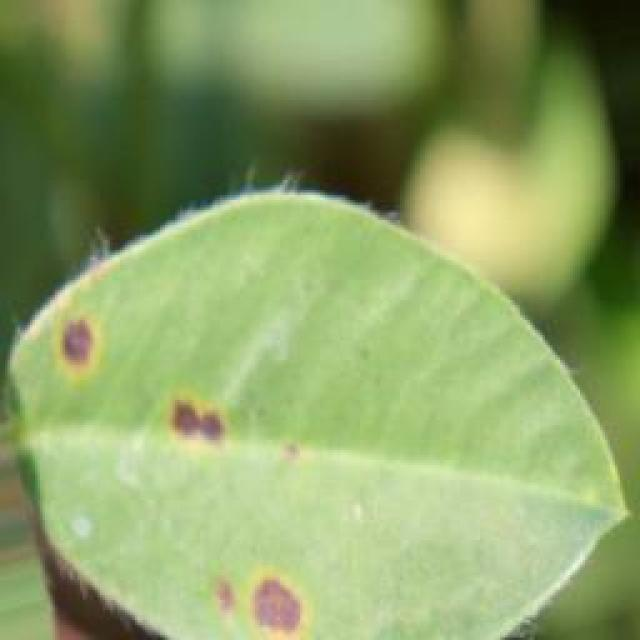Sigatoka: (202, 539, 307, 627), (131, 381, 233, 451), (46, 311, 131, 369)
